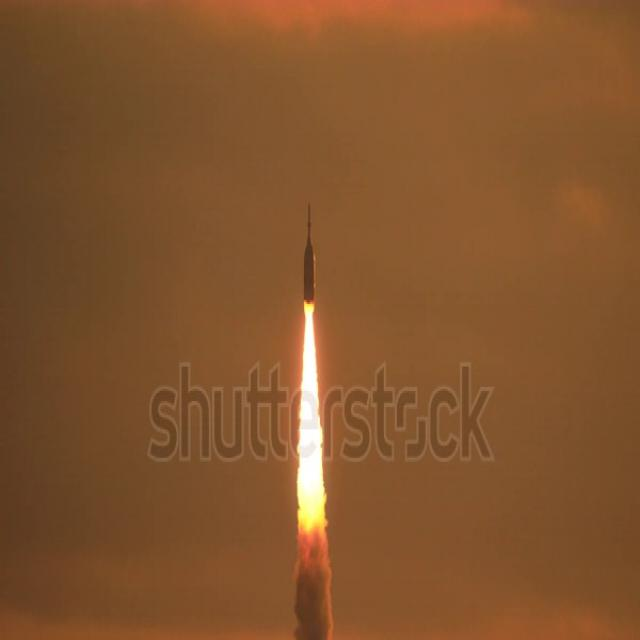rocket: (302, 207, 317, 415)
